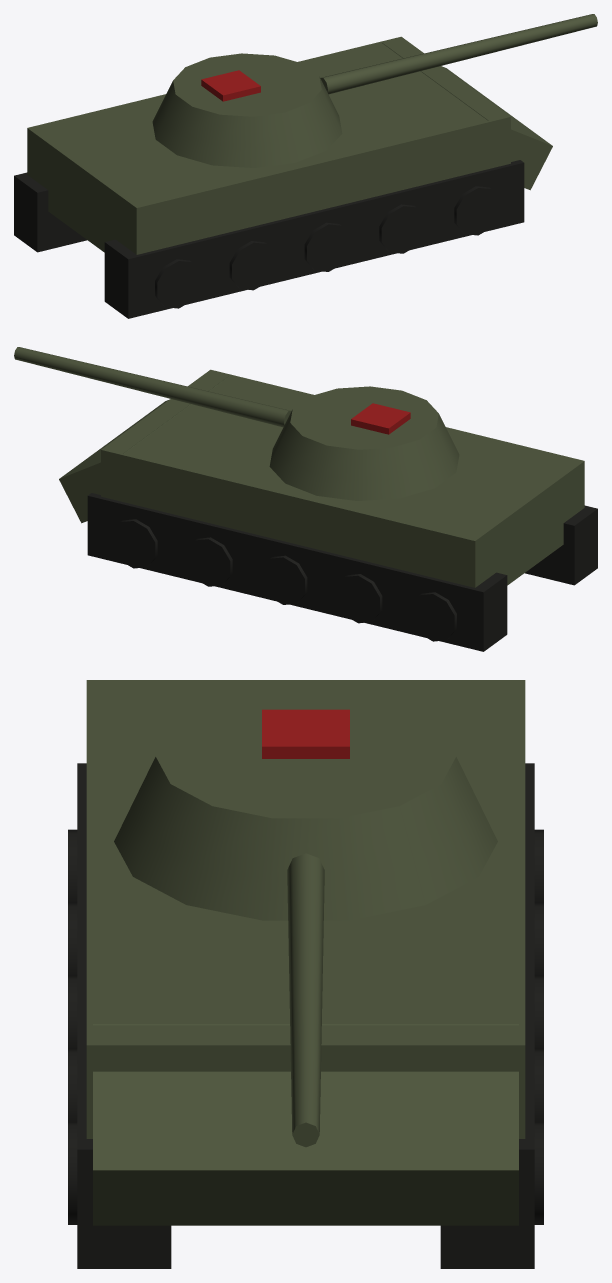
The picture shows the model from 3 angles, top to bottom: view 1: azimuth 30°, elevation 25°; view 2: azimuth 150°, elevation 25°; view 3: azimuth 270°, elevation 25°; orthographic projection. The views are drawn at different scales.
Visible parts, largest first — view 1: Hull, Track2, TurretBody, Barrel, Track, Glacis, Wheel7, Wheel8, Wheel6, Wheel9, Wheel10, Marking; view 2: Hull, Track, TurretBody, Barrel, Track2, Glacis, Wheel2, Wheel3, Wheel, Wheel4, Wheel5, Marking; view 3: Hull, Glacis, TurretBody, Barrel, Track, Track2, Marking, Wheel5, Wheel10.
Boxes of the visible parts, left/top/right/bottom form: Hull: left=27, top=36, right=510, bottom=254; Track2: left=104, top=160, right=524, bottom=318; TurretBody: left=152, top=53, right=342, bottom=167; Barrel: left=320, top=14, right=597, bottom=94; Track: left=14, top=172, right=86, bottom=252; Glacis: left=382, top=42, right=552, bottom=190; Wheel7: left=229, top=241, right=275, bottom=290; Wheel8: left=304, top=222, right=350, bottom=271; Wheel6: left=155, top=259, right=200, bottom=308; Wheel9: left=379, top=204, right=424, bottom=253; Wheel10: left=454, top=186, right=499, bottom=235; Marking: left=201, top=70, right=260, bottom=101; Hull: left=101, top=369, right=584, bottom=587; Track: left=87, top=493, right=507, bottom=651; TurretBody: left=269, top=386, right=459, bottom=500; Barrel: left=14, top=347, right=291, bottom=427; Track2: left=525, top=505, right=597, bottom=585; Glacis: left=59, top=375, right=229, bottom=523; Wheel2: left=336, top=574, right=382, bottom=623; Wheel3: left=261, top=555, right=307, bottom=604; Wheel: left=411, top=592, right=456, bottom=641; Wheel4: left=187, top=537, right=232, bottom=586; Wheel5: left=112, top=519, right=157, bottom=568; Marking: left=351, top=403, right=410, bottom=434; Hull: left=86, top=680, right=525, bottom=1138; Glacis: left=93, top=1024, right=518, bottom=1225; TurretBody: left=114, top=694, right=497, bottom=920; Barrel: left=287, top=853, right=324, bottom=1147; Track: left=440, top=763, right=534, bottom=1268; Track2: left=77, top=763, right=171, bottom=1268; Marking: left=262, top=709, right=349, bottom=758; Wheel5: left=534, top=1122, right=543, bottom=1224; Wheel10: left=68, top=1122, right=77, bottom=1224.
Bounding box in the file's own units: 9.65 × 2.74 × 3.8.
